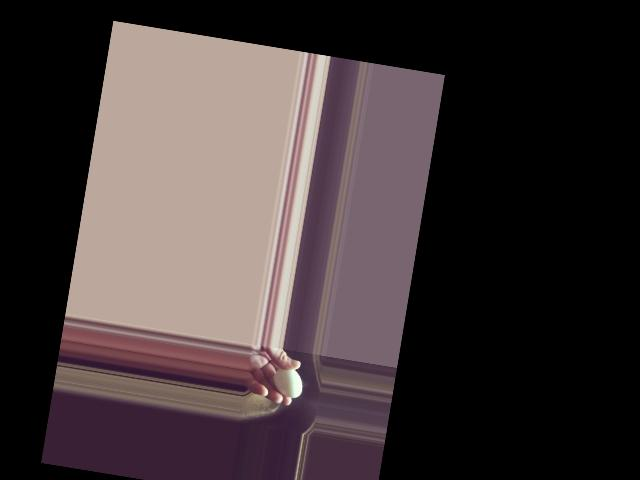egg: (271, 365, 304, 398)
